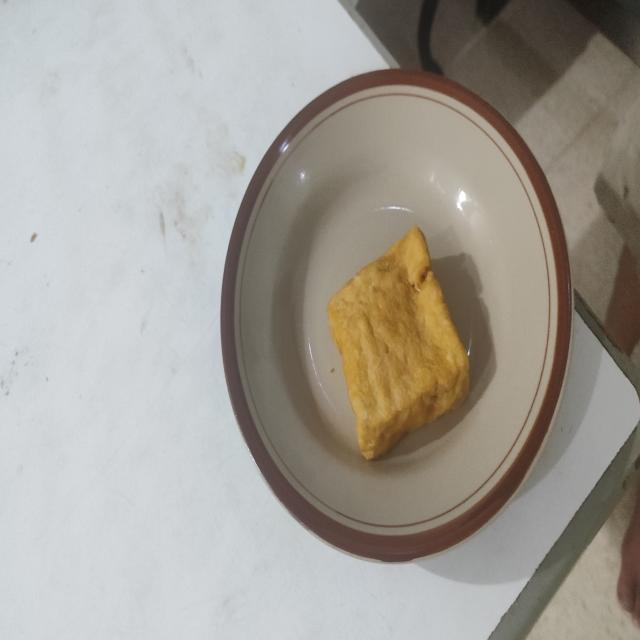tahu_goreng: (328, 226, 470, 460)
